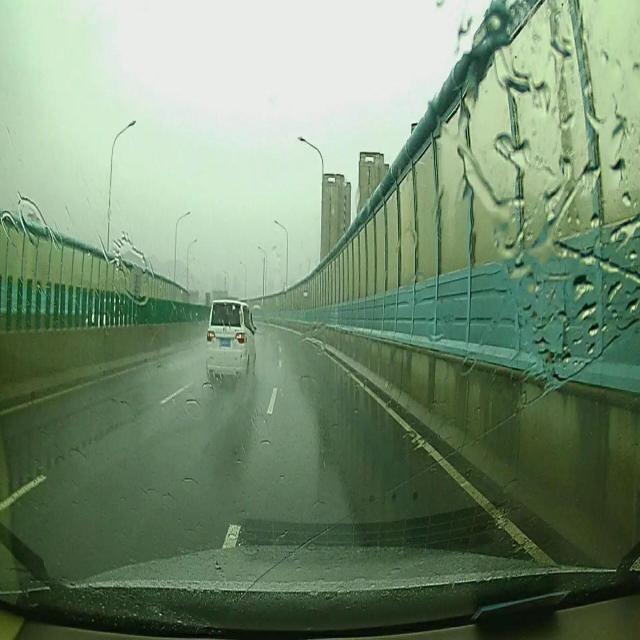car: (206, 300, 256, 390)
